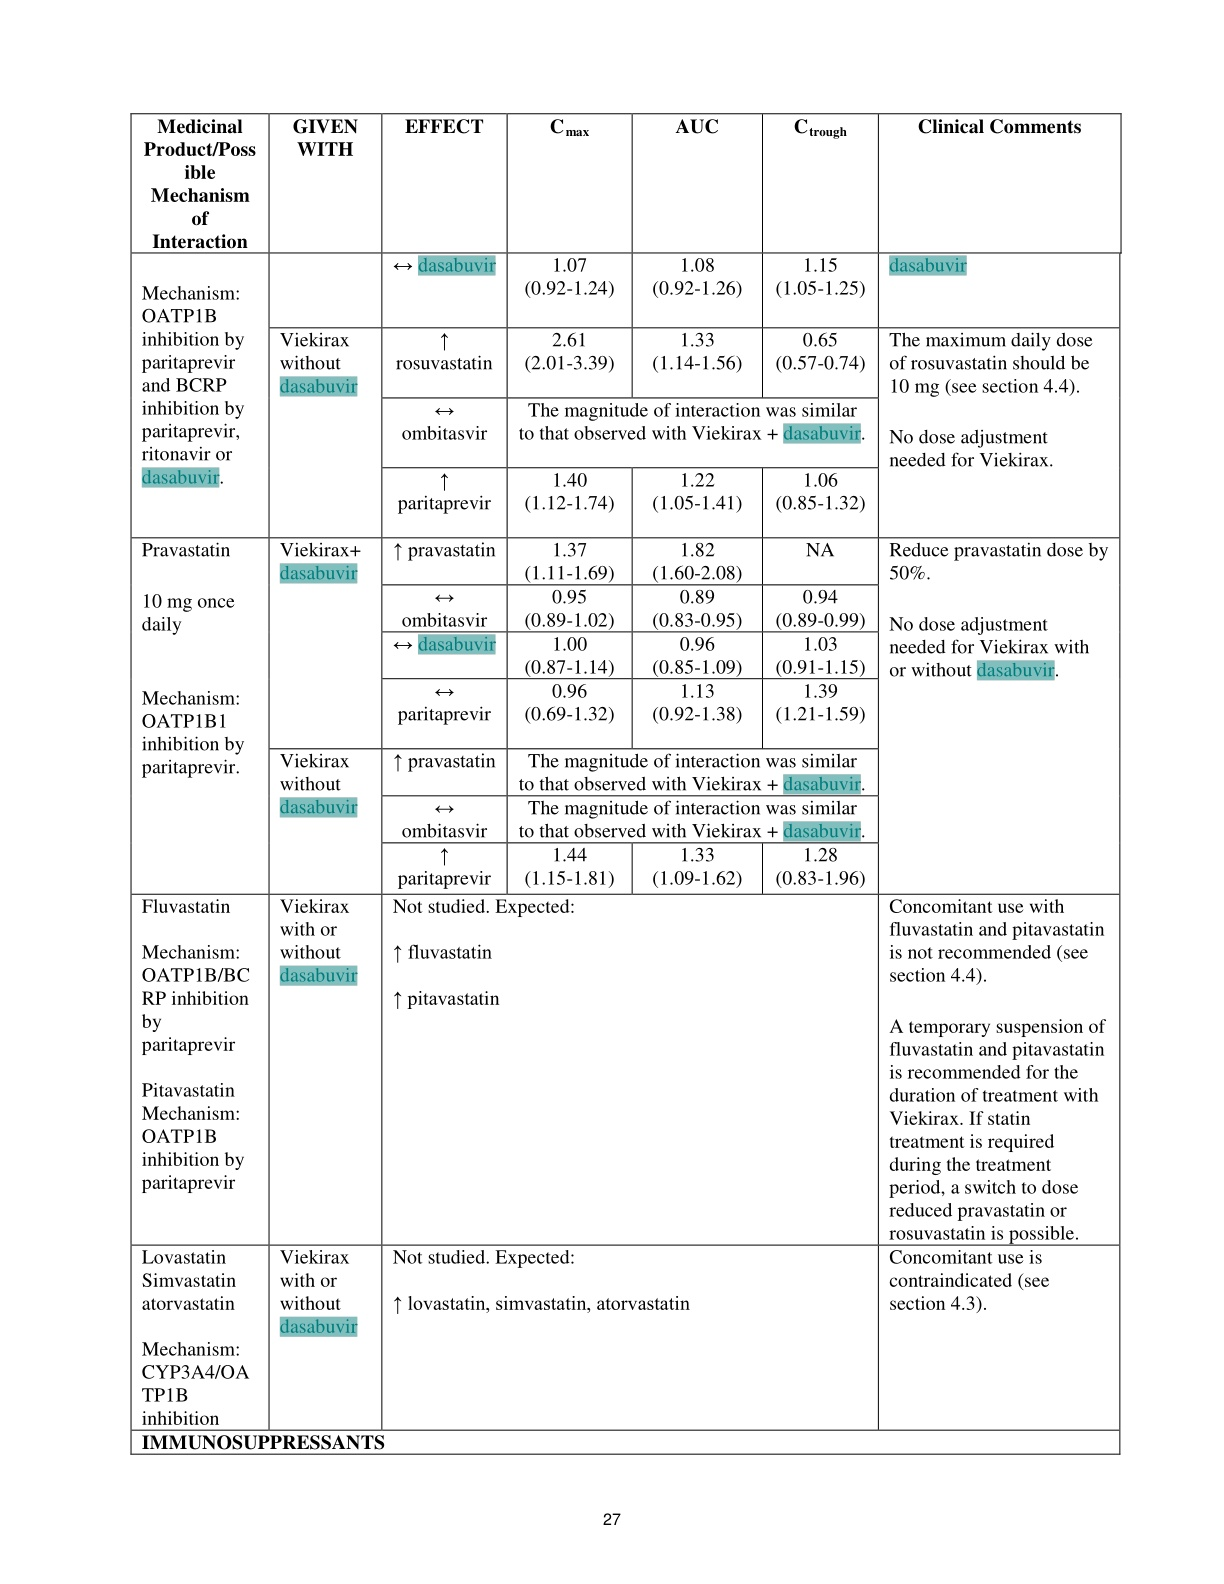merged_cells: (130, 112, 1122, 1455)
